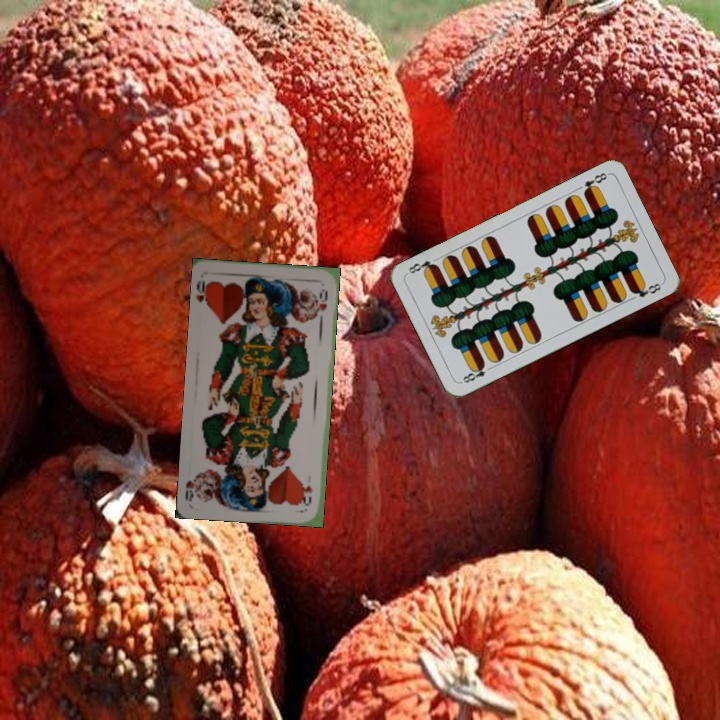E8: (457, 359, 495, 386), (579, 169, 610, 197)
HO: (193, 277, 214, 312), (300, 481, 315, 508)
